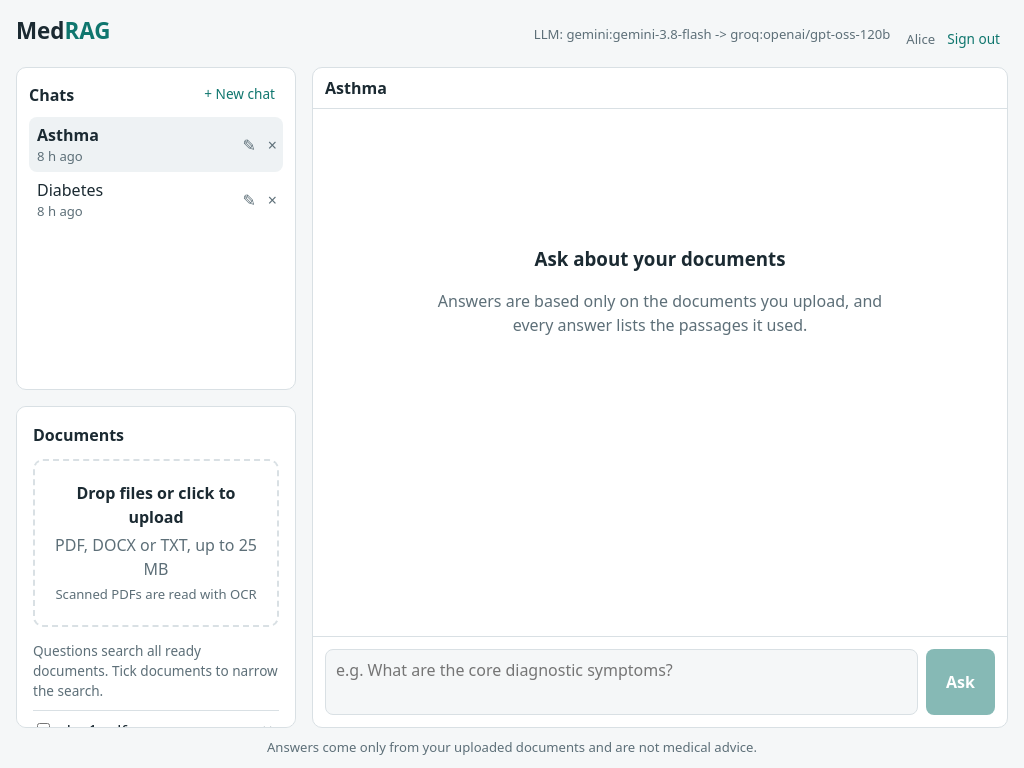
Test: chats › keeps a streaming answer in its own chat when another chat is opened
This screenshot has width=1024, height=768.
Type "Slow question?" into the text box named "Question" at [622, 682], box [325,649,918,715]
Then press Enter
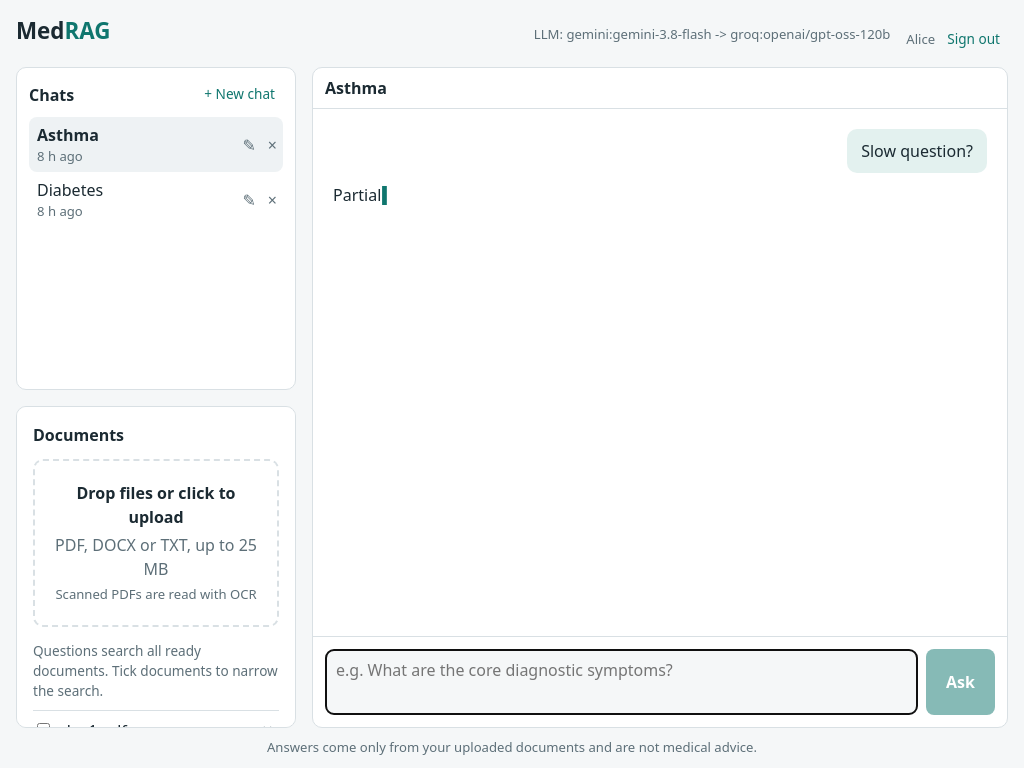
Result: the text "Partial" is shown at [333,184,381,206]
Click the button "Diabetes 8 h ago" at [132, 200], box [29,172,234,228]
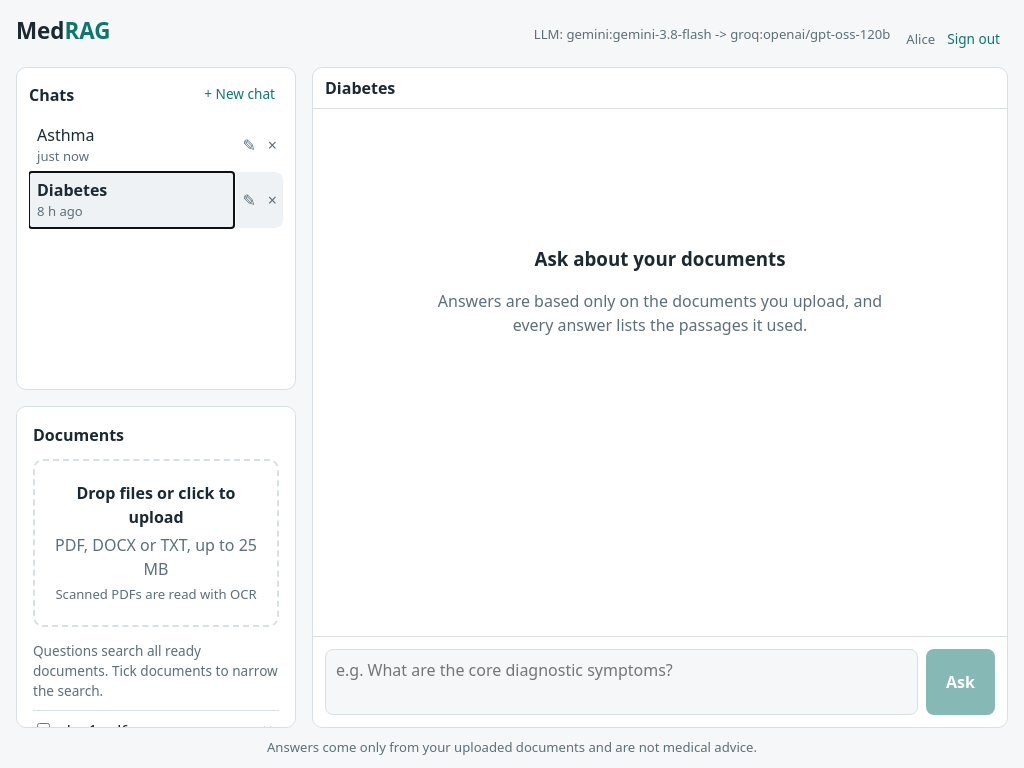
Expected: the button "Ask" is disabled, [926,649,995,715]
Result: the text "Partial" is gone
Result: the text "Slow question?" is gone
